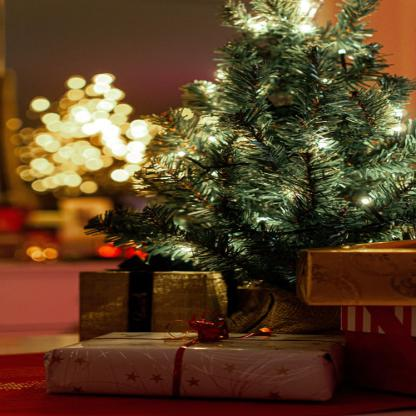present: (60, 336, 397, 416), (43, 256, 239, 340), (278, 250, 410, 323)
x_mas tree: (147, 11, 411, 255)
